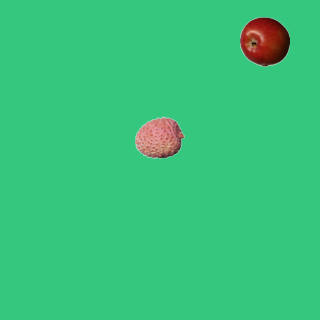Apple Braeburn: (239, 16, 289, 66)
Lychee: (134, 112, 184, 162)
